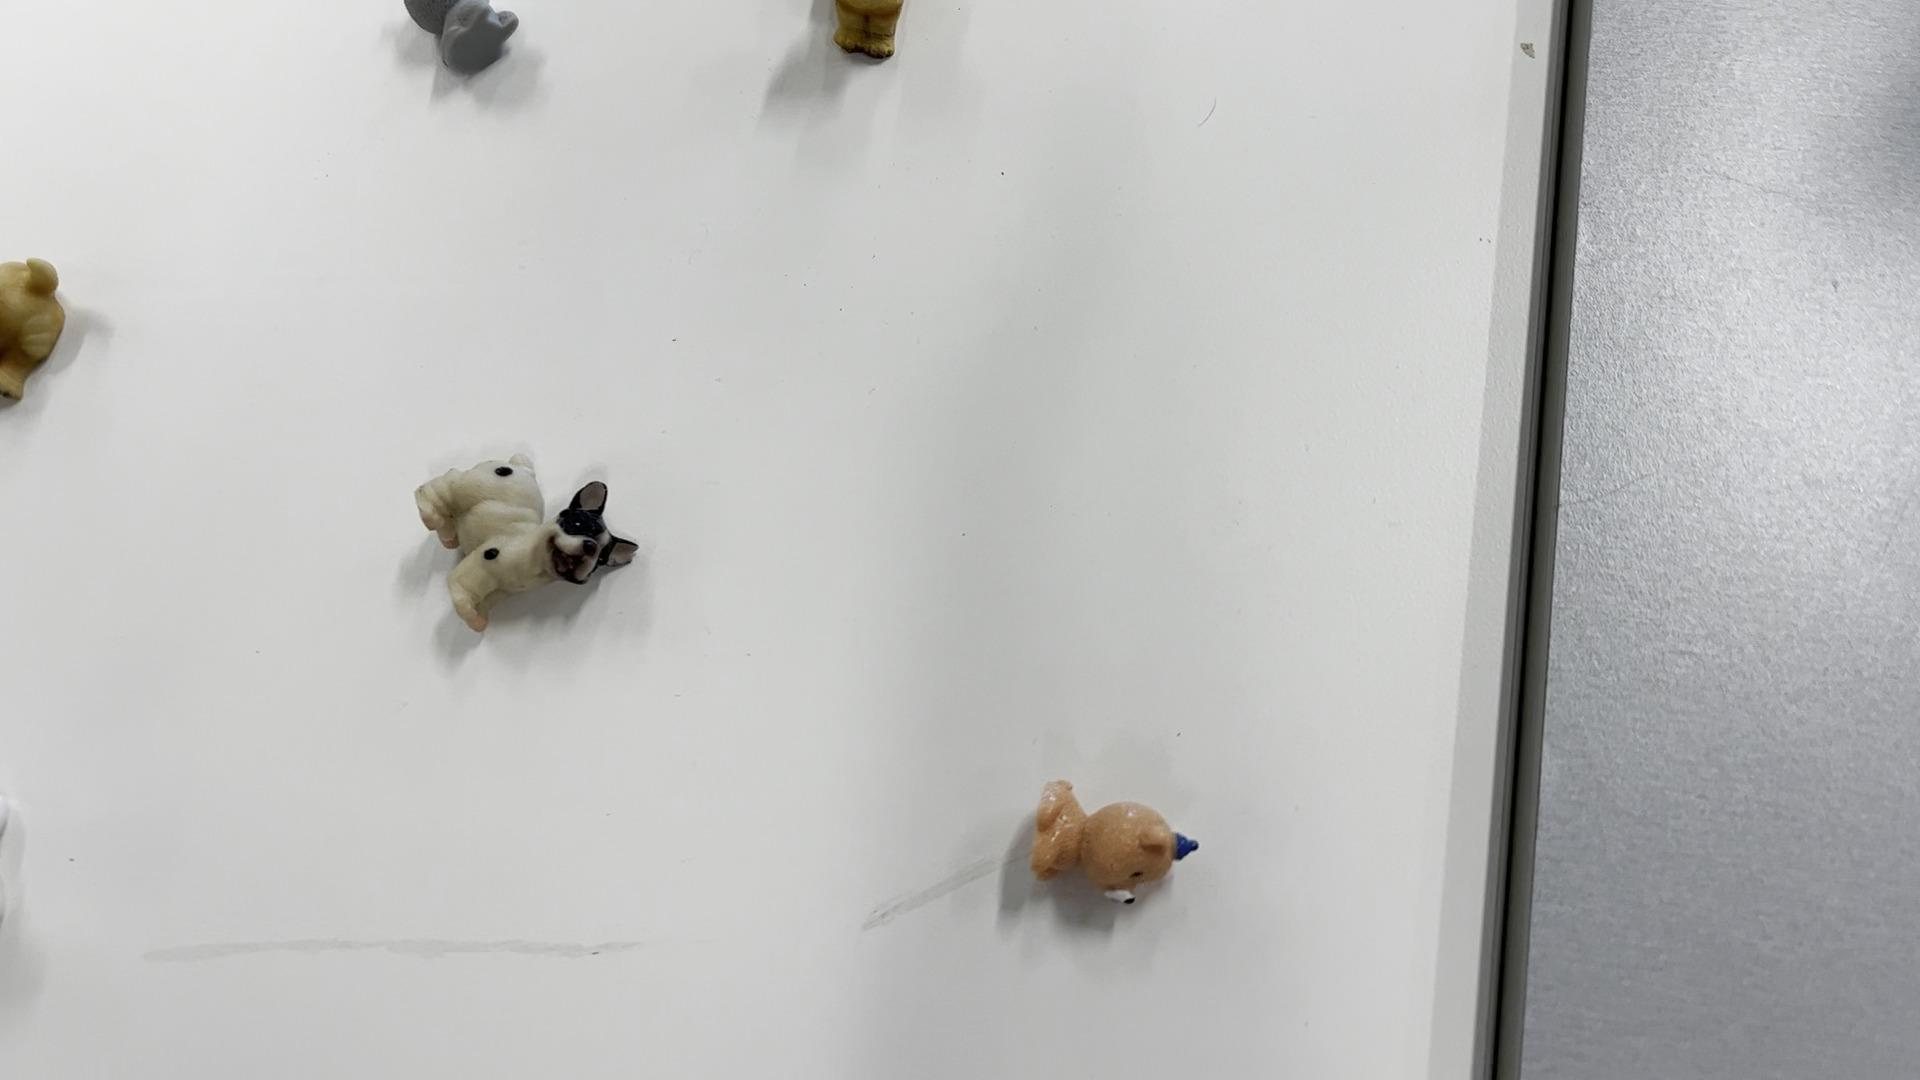pet: (418, 442, 647, 644), (1021, 769, 1203, 926), (0, 251, 82, 433), (401, 0, 525, 82), (790, 0, 915, 66)
